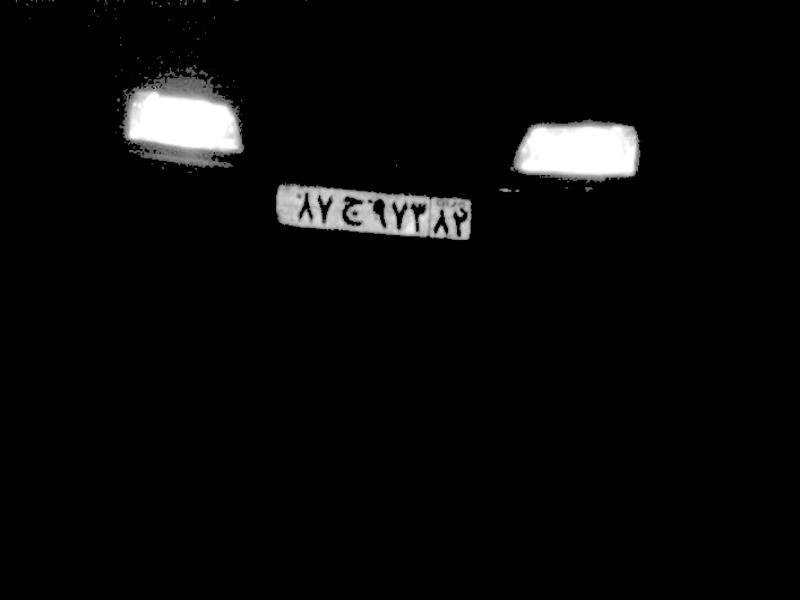Plate: (277, 180, 474, 249)
